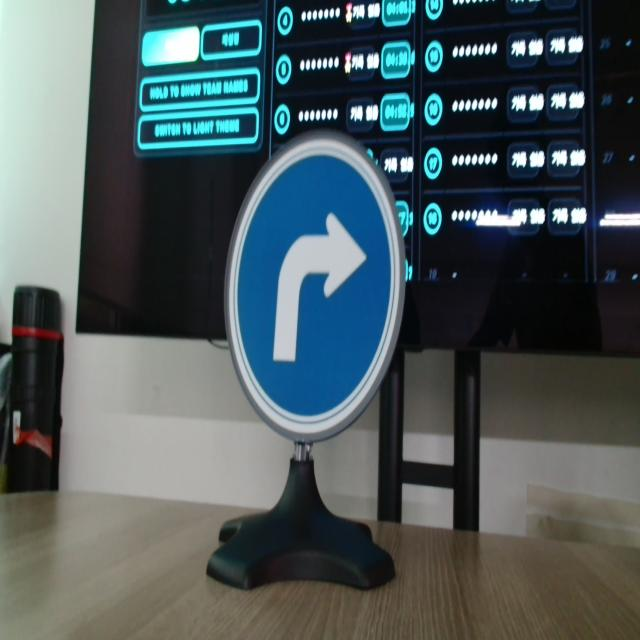right_dierection: (212, 103, 414, 465)
